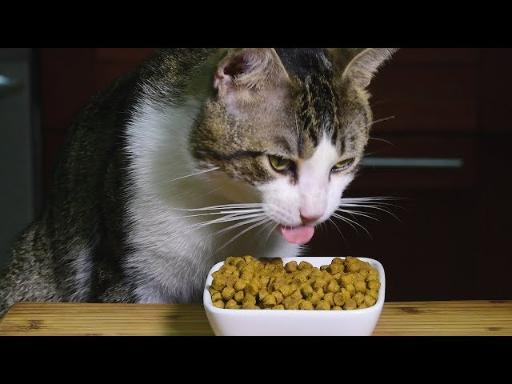cat_eating: (0, 48, 398, 334)
